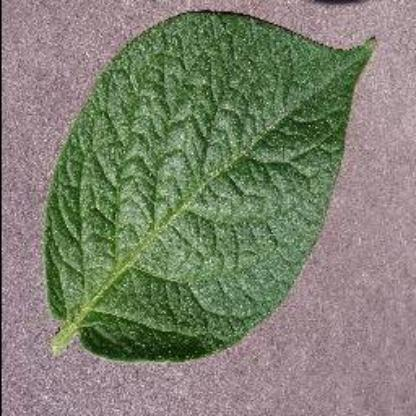Healthy-plant: (42, 5, 388, 364)
